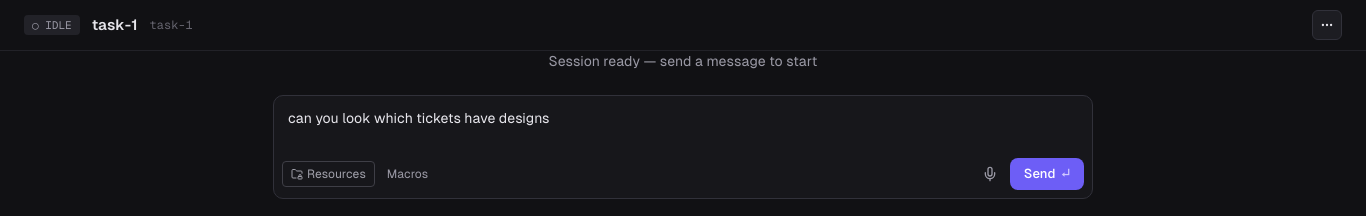
NativeAgentPanel dictation › throws a recording away with Cancel
Expected: the text box named "Message" is shown, [274,96,1092,152]
Click the button named "Voice dictation" at [990, 174], box [974,158,1006,190]
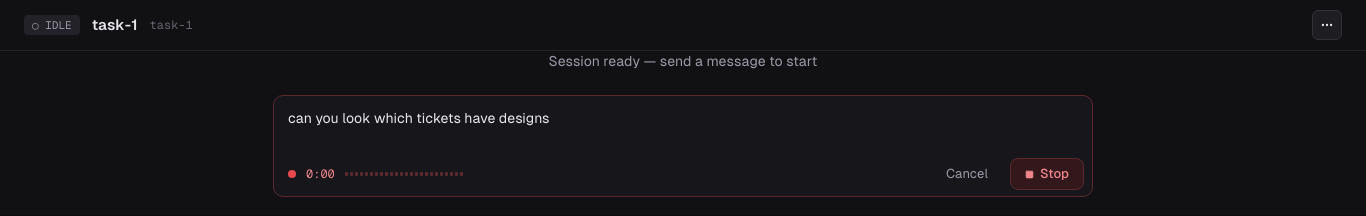
Click the button "Cancel" at [967, 174], box [934,158,1000,190]
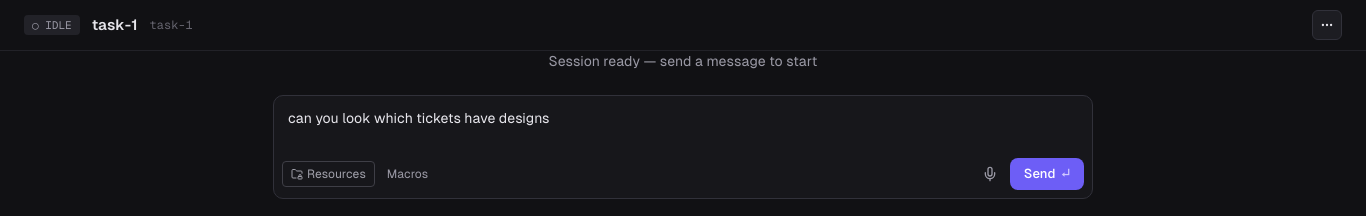
Expected: the element "Dictating" is gone
